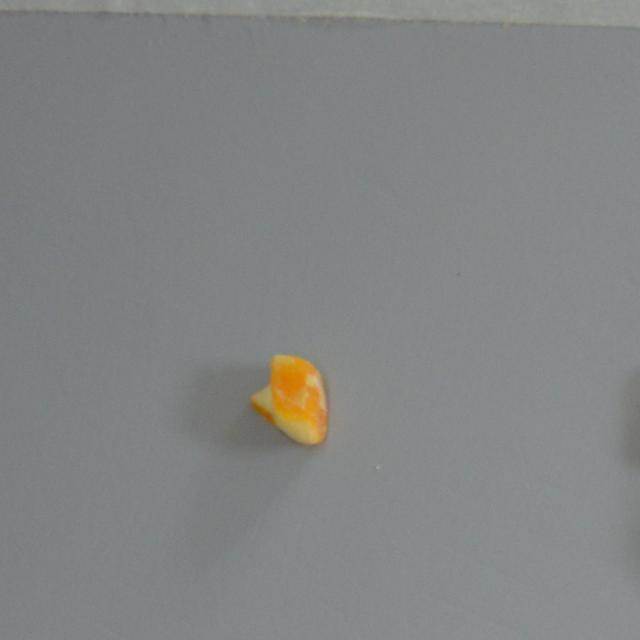pelicula: (244, 352, 328, 450)
